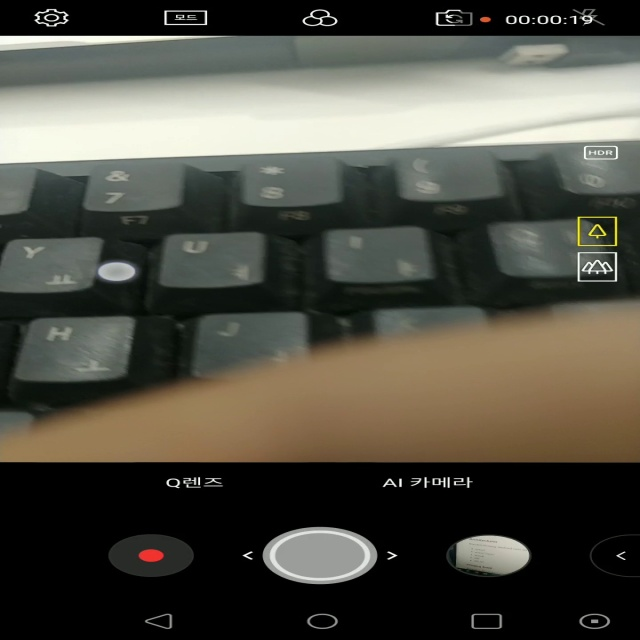Cursor: (96, 261, 140, 284)
